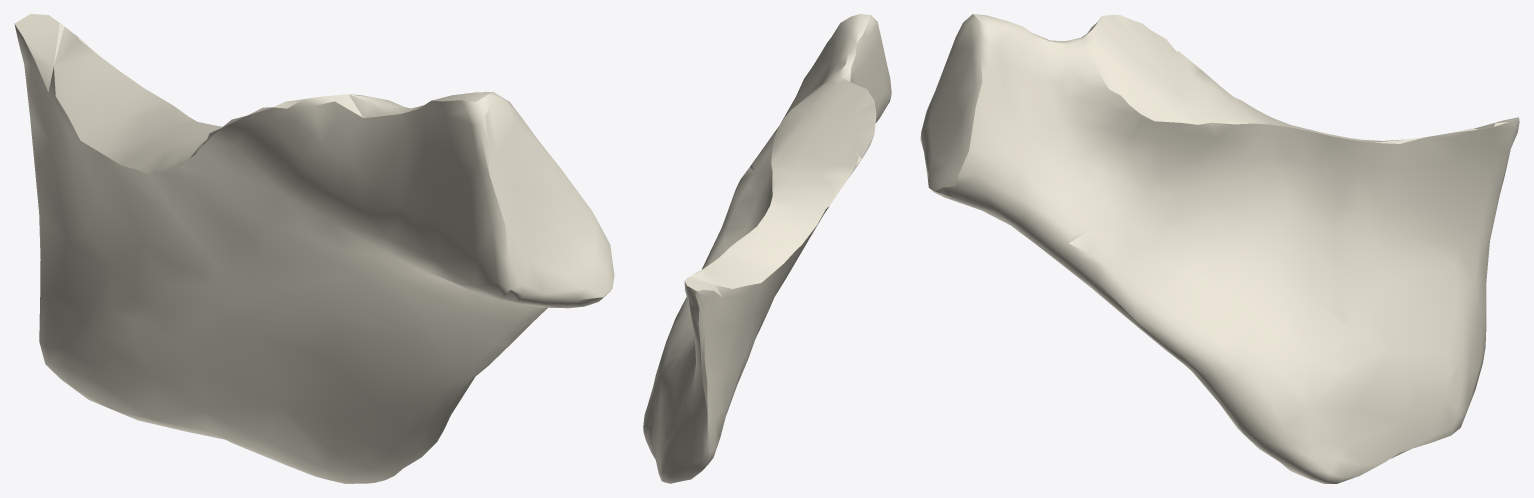
File: fma54746_mm2176.glb
3 views of the same model, side by side, from view 1: azimuth 30°, elevation 25°; view 2: azimuth 150°, elevation 25°; view 3: azimuth 270°, elevation 25° (orthographic). The views are drawn at different scales.
Parts seen in each view (by area): view 1: FMA54746_MM2176; view 2: FMA54746_MM2176; view 3: FMA54746_MM2176.
Part boxes in pixels (<box>): FMA54746_MM2176: <box>14,14,614,483</box>; FMA54746_MM2176: <box>643,14,891,483</box>; FMA54746_MM2176: <box>920,14,1519,483</box>.
Bounding box in the file's own units: 0.00451 × 0.00874 × 0.0112.
